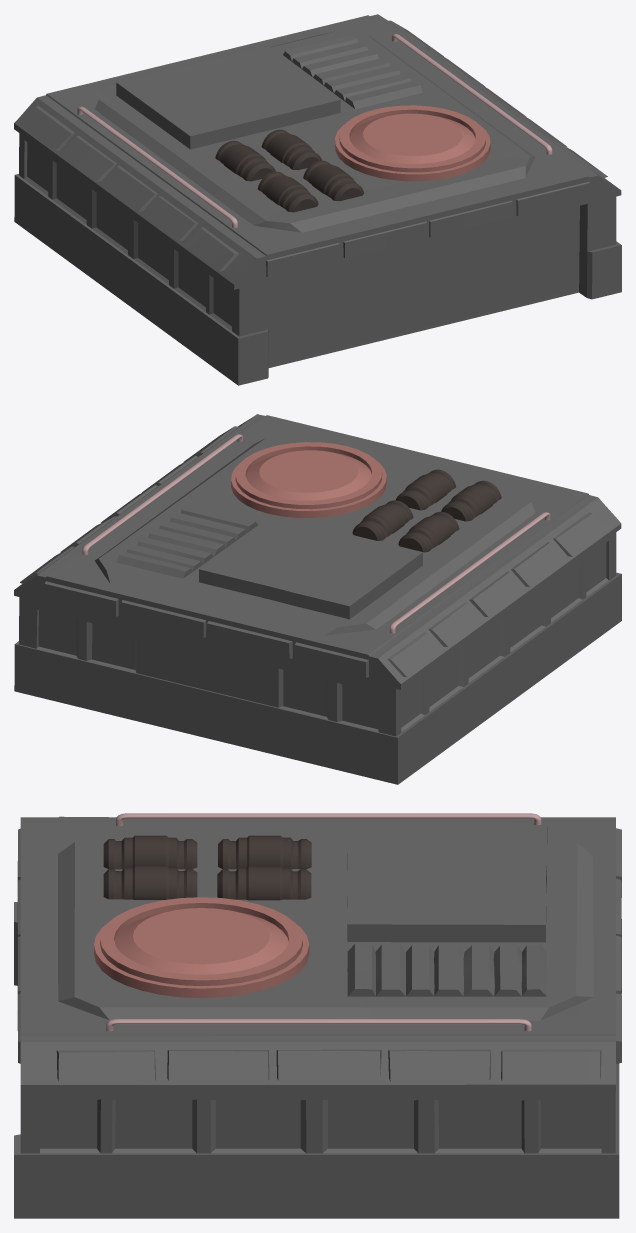
3 renders of one model, top to bottom at view 1: azimuth 30°, elevation 25°; view 2: azimuth 150°, elevation 25°; view 3: azimuth 270°, elevation 25°, orthographic. The views are drawn at different scales.
Parts seen in each view (by area): view 1: Plane, Cylinder.001, roof handtag.001; view 2: Plane, Cylinder.001, roof handtag.001; view 3: Plane, Cylinder.001, roof handtag.001.
Part boxes in pixels (left/top/right/bottom): Plane: left=14, top=14, right=621, bottom=385; Cylinder.001: left=215, top=129, right=364, bottom=212; roof handtag.001: left=77, top=34, right=552, bottom=228; Plane: left=14, top=414, right=621, bottom=784; Cylinder.001: left=352, top=469, right=501, bottom=552; roof handtag.001: left=82, top=434, right=550, bottom=633; Plane: left=14, top=816, right=621, bottom=1218; Cylinder.001: left=103, top=835, right=311, bottom=900; roof handtag.001: left=106, top=813, right=541, bottom=1031.
Size of the model in its own units: 5500 by 1933 by 5500.
